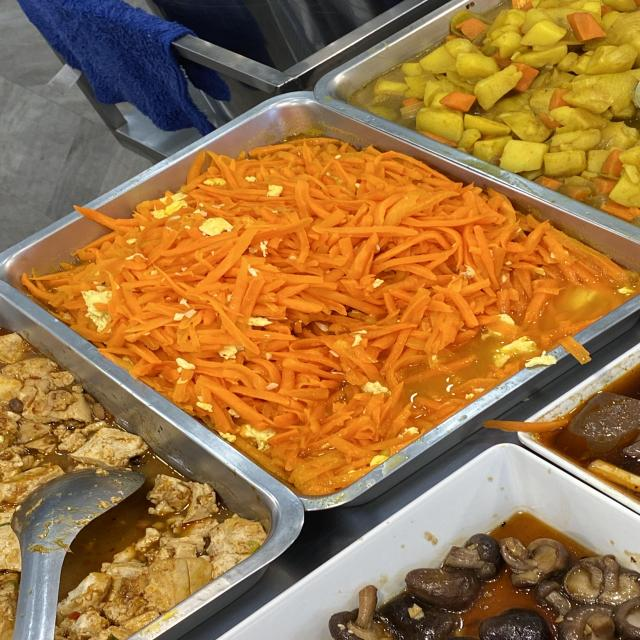Scrambled eggs with carrots: (146, 208, 486, 372)
